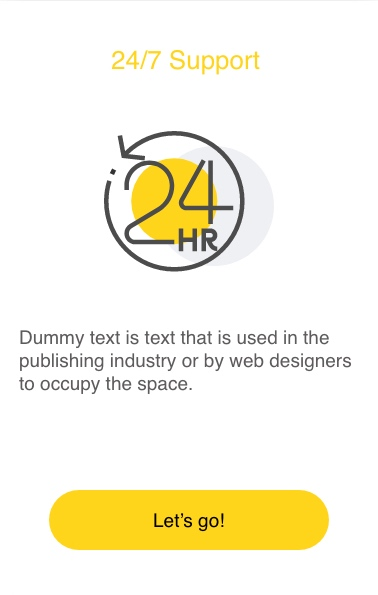Image: (103, 130, 276, 273)
Text: (18, 327, 352, 396), (111, 49, 261, 76)
TextButton: (49, 489, 330, 551)
